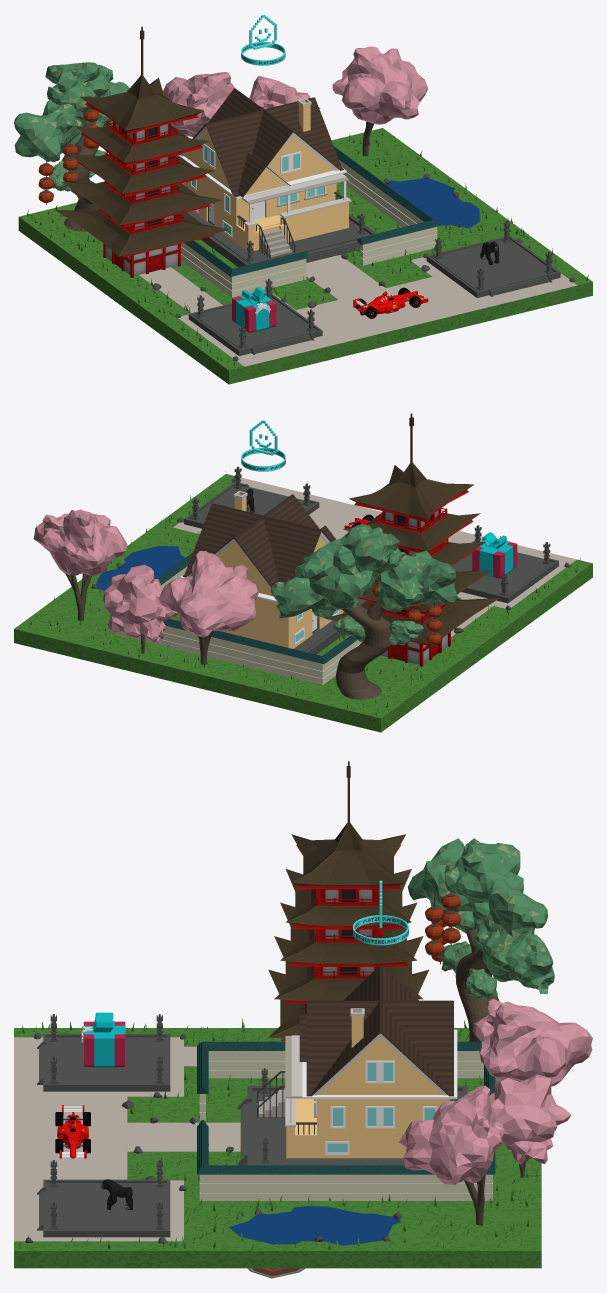
The picture shows the model from 3 angles, top to bottom: view 1: azimuth 30°, elevation 25°; view 2: azimuth 150°, elevation 25°; view 3: azimuth 270°, elevation 25°; orthographic projection. The views are drawn at different scales.
Visible parts, largest first — view 1: Cube.005, Cube.235, OBJRANDOM_GIANT_PRESENT, VEHICLES_FORMULA_1, TYPE_PREMIUM; view 2: Cube.005, Cube.235, OBJRANDOM_GIANT_PRESENT, TYPE_PREMIUM; view 3: Cube.005, Cube.235, OBJRANDOM_GIANT_PRESENT, VEHICLES_FORMULA_1, TYPE_PREMIUM.
Part boxes in pixels (box(x1,y1,x2,y2)): Cube.005: box(14, 26, 592, 384); Cube.235: box(177, 88, 351, 258); OBJRANDOM_GIANT_PRESENT: box(232, 287, 276, 332); VEHICLES_FORMULA_1: box(353, 287, 428, 318); TYPE_PREMIUM: box(241, 14, 285, 65); Cube.005: box(14, 413, 592, 732); Cube.235: box(180, 491, 343, 648); OBJRANDOM_GIANT_PRESENT: box(472, 532, 517, 578); TYPE_PREMIUM: box(241, 420, 285, 471); Cube.005: box(14, 761, 592, 1268); Cube.235: box(257, 965, 457, 1158); OBJRANDOM_GIANT_PRESENT: box(81, 1012, 125, 1067); VEHICLES_FORMULA_1: box(55, 1105, 90, 1158); TYPE_PREMIUM: box(353, 880, 408, 945).
Bounding box in the file's own units: 4528 × 3406 × 4389.
47 materials, 6 textured.
